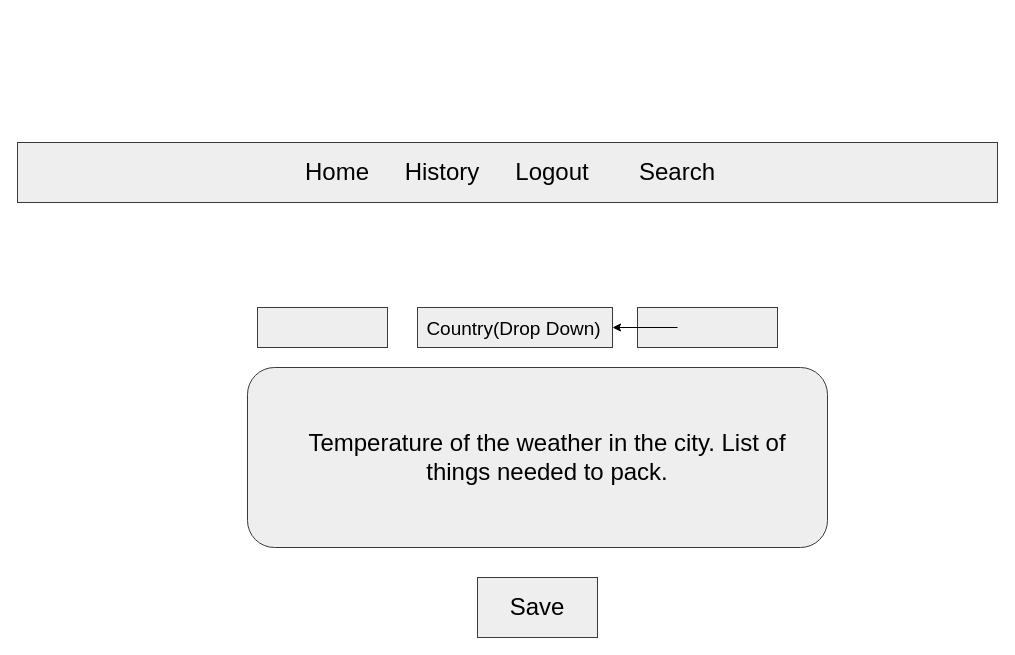
Some shapes in this 1015 by 655 pixel diagram are drawn without their labels. Here are the shapes that lost their labels. From the top down, the centre of each, then its label:
point 322,327: City
point 707,327: Submit
